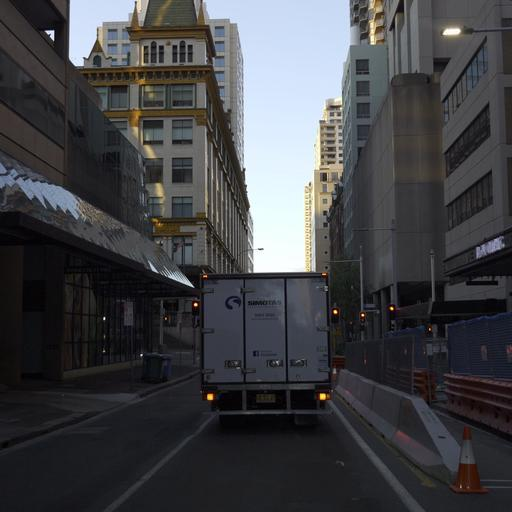Street light: (323, 255, 365, 331), (441, 23, 511, 37), (238, 246, 264, 271), (239, 246, 264, 253)
